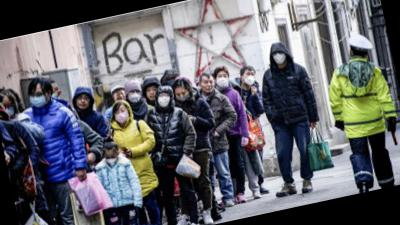with_mask: (27, 85, 50, 108), (112, 105, 131, 126), (154, 91, 174, 109), (0, 98, 17, 119), (240, 69, 257, 86), (214, 71, 230, 89), (104, 151, 120, 168), (127, 87, 143, 104), (271, 49, 287, 66), (175, 88, 190, 103)
without_mask: (74, 91, 93, 111), (144, 84, 161, 102), (200, 77, 215, 95), (114, 89, 127, 102)
